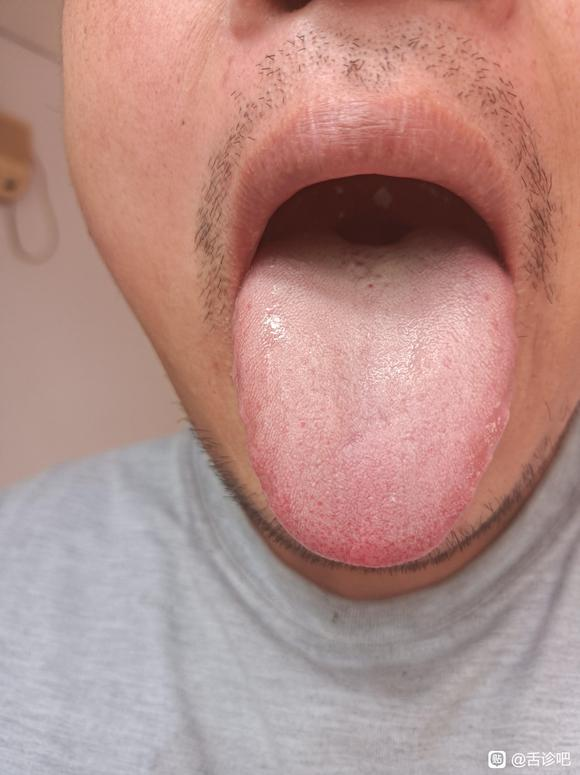baitaishe: (234, 225, 517, 569)
hongdianshe: (364, 276, 374, 292)
shenquao: (306, 227, 441, 260)
